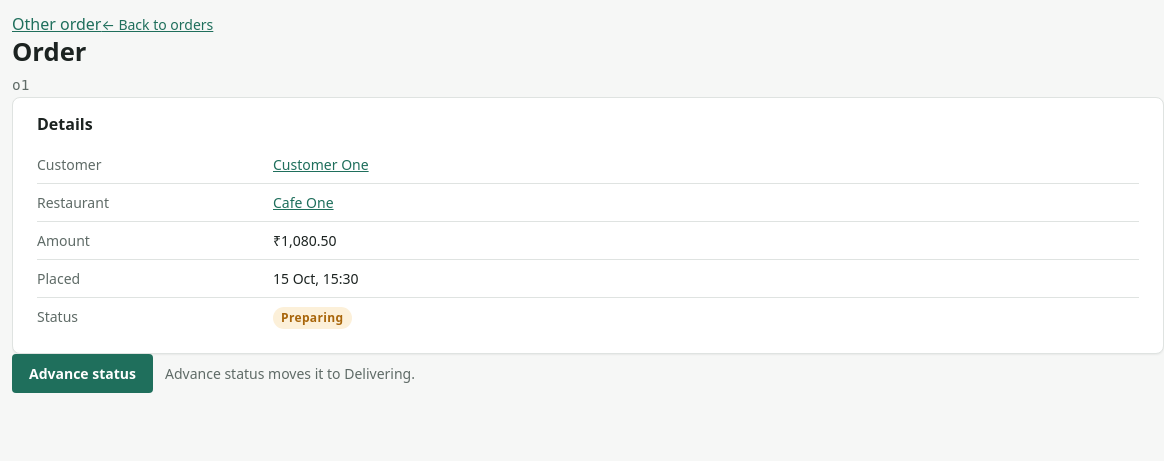
Order detail › advances both steps, refreshes related caches and stops at delivery
Click the button "Advance status": (82, 373) [12,354,153,393]
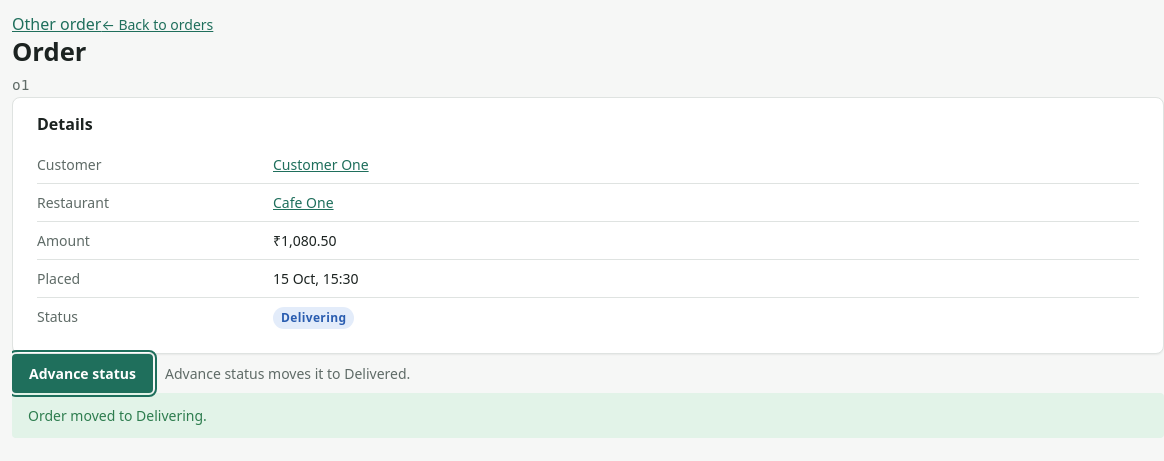
Expected: the text "Delivering" is shown, [273,307,354,329]
Expected: the message reads "Order moved to Delivering.", [28,406,207,425]
Click the button "Advance status": (82, 373) [12,354,153,393]
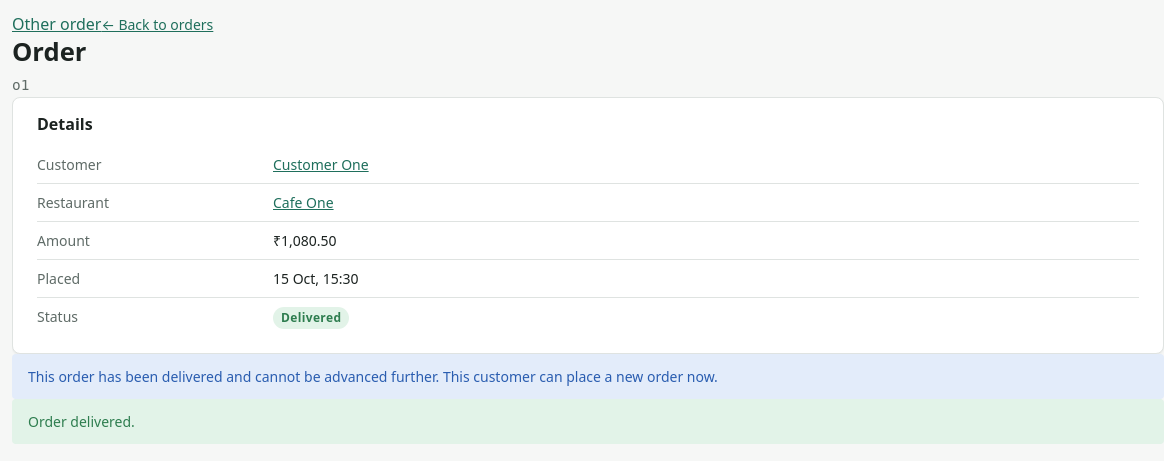
Expected: the text "Delivered" is shown, [273,307,349,329]
Expected: the text "Order delivered." is shown, [12,399,1163,444]
Expected: the button "Advance status" is gone
